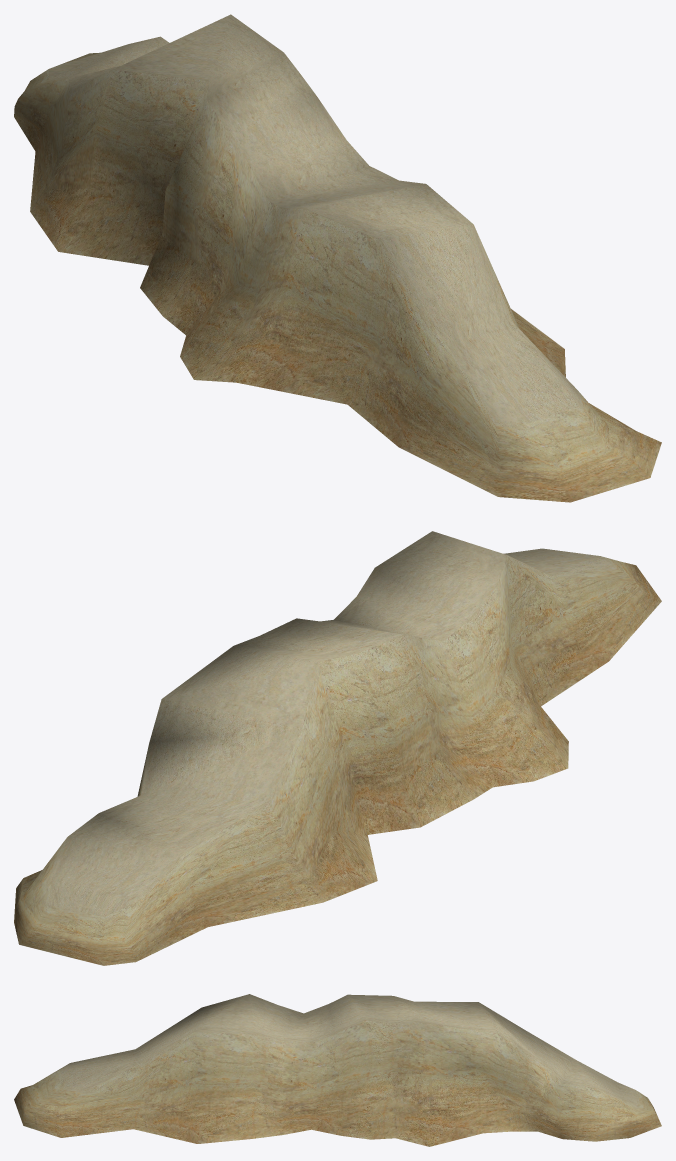
The model's file is rock_beach_spine_l2.fbx.
The picture shows the model from 3 angles, top to bottom: view 1: azimuth 30°, elevation 25°; view 2: azimuth 150°, elevation 25°; view 3: azimuth 270°, elevation 25°; orthographic projection. The views are drawn at different scales.
Parts seen in each view (by area): view 1: mesh_node; view 2: mesh_node; view 3: mesh_node.
Part boxes in pixels (x1,y1,x2,y2): mesh_node: (14, 14, 661, 502); mesh_node: (14, 531, 661, 965); mesh_node: (14, 994, 661, 1146).
Size of the model in its own units: 8.17 by 4.54 by 25.8.
